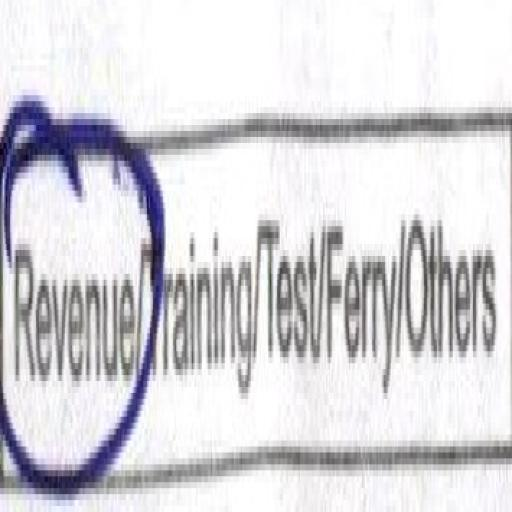check: (0, 59, 138, 494)
